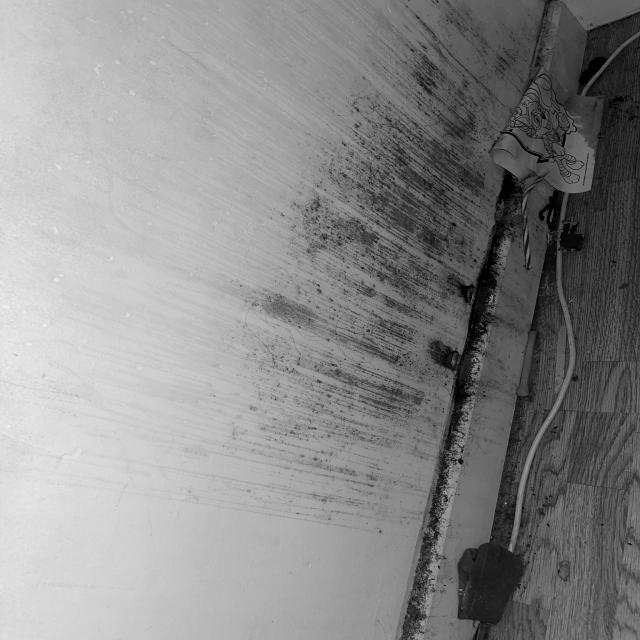stain marks: (0, 0, 554, 303), (0, 304, 534, 538), (365, 539, 450, 640)
